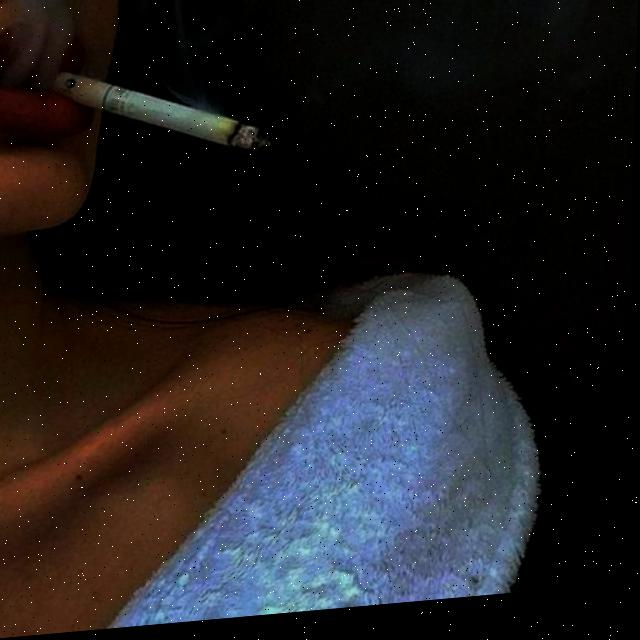cigarette: (51, 60, 265, 170)
